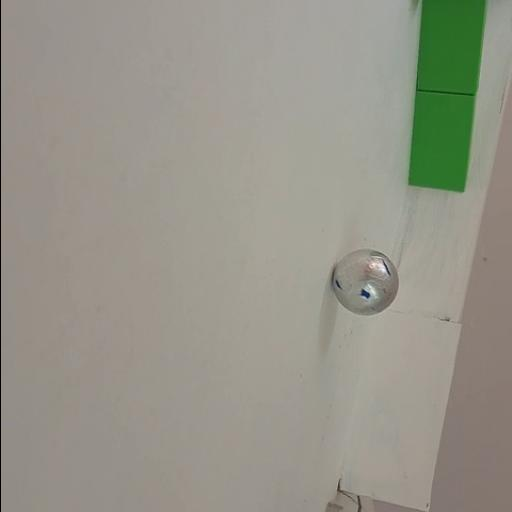alive: (330, 247, 400, 319)
